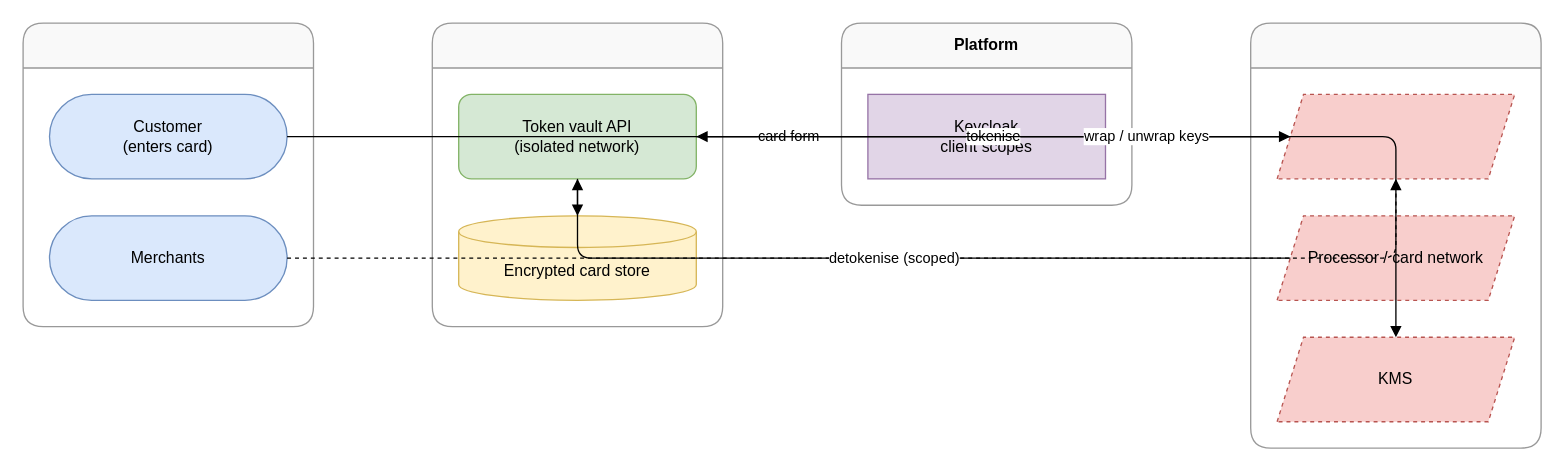
Image size: 1564x471. Some labels were removed from this diagram. The box of each missing label's shape, as (x1, y1, x2, y2) in pixels:
Card tokenisation vault (system boundary): (431, 22, 723, 327)
Checkout service: (1276, 93, 1515, 179)
External systems: (1249, 22, 1541, 448)
Users and clients: (22, 22, 314, 327)
